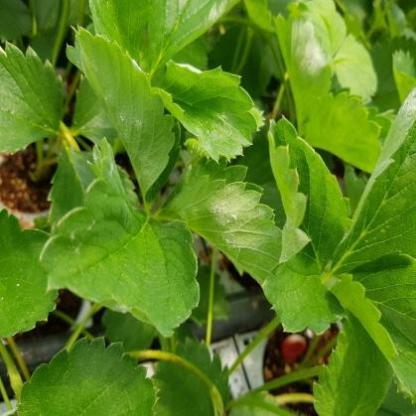Strawberry_Powdery_Mildew_Leaf: (39, 136, 200, 338), (66, 25, 181, 209), (323, 86, 415, 288), (154, 152, 283, 284), (150, 59, 259, 163), (272, 13, 336, 137)
